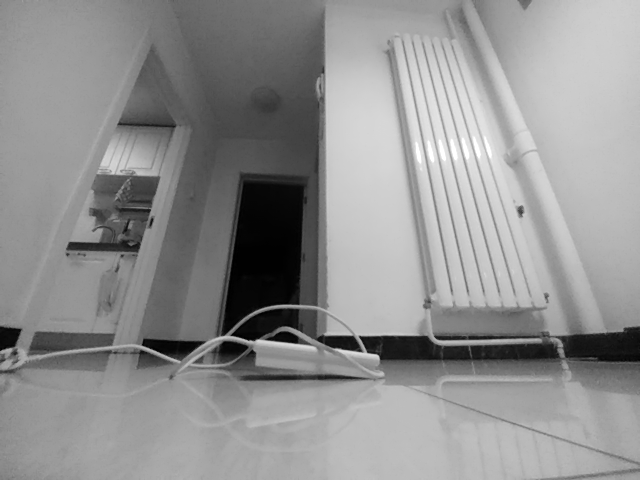power strip: (251, 331, 383, 378)
wire: (1, 313, 251, 381)
